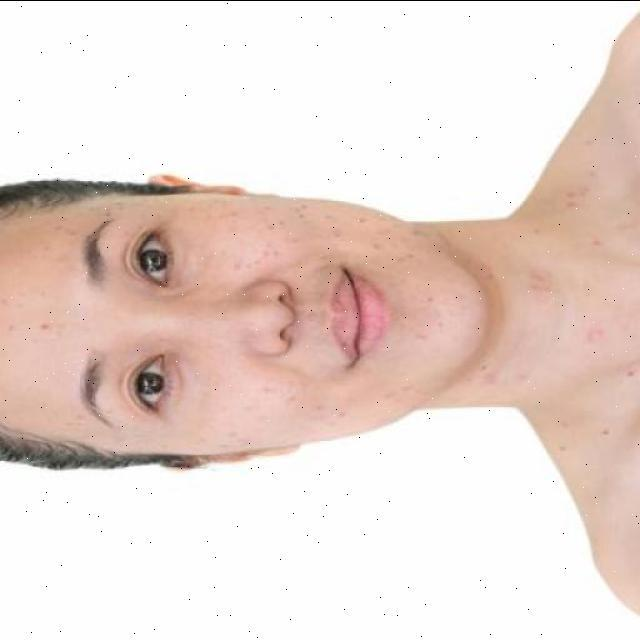Acne: (232, 211, 416, 276), (236, 384, 404, 430)
